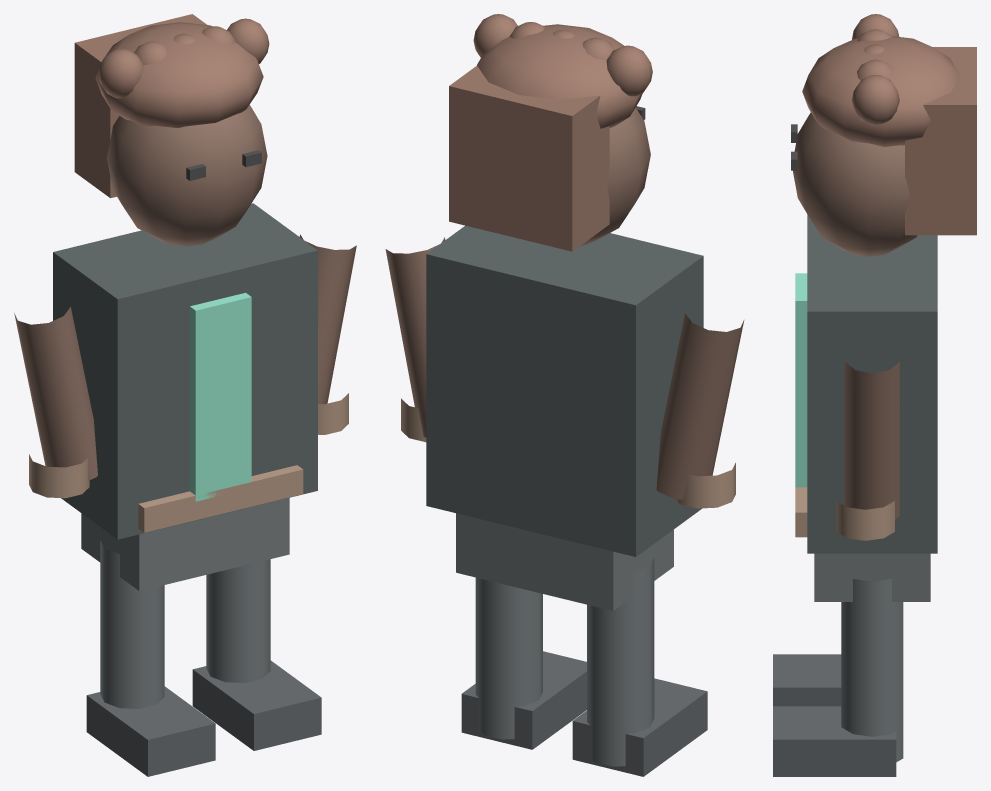
Rendered from darel-ossan.glb.
3 renders of one model, left to right at view 1: azimuth 30°, elevation 25°; view 2: azimuth 150°, elevation 25°; view 3: azimuth 270°, elevation 25°, orthographic. The views are drawn at different scales.
Parts seen in each view (by area): view 1: Torso, Head, Vest, HairCap, Pelvis, ArmL, LegL, FootL, FootR, LegR, HairBack, Belt (+5 smaller); view 2: Torso, HairBack, Pelvis, LegL, ArmL, LegR, HairCap, FootL, FootR, ArmR, Head, Curl0 (+3 smaller); view 3: Torso, Head, HairBack, HairCap, LegR, ArmR, FootR, Pelvis, FootL, Vest, CuffR, Curl4 (+3 smaller).
Boxes of the visible parts, x1,y1,x2,y2 form: Torso: [53, 203, 317, 539]; Head: [107, 105, 267, 246]; Vest: [189, 292, 251, 501]; HairCap: [95, 22, 263, 127]; Pelvis: [81, 498, 289, 590]; ArmL: [14, 307, 97, 480]; LegL: [100, 540, 164, 708]; FootL: [86, 686, 215, 776]; FootR: [192, 660, 321, 750]; LegR: [206, 559, 270, 682]; HairBack: [74, 14, 206, 198]; Belt: [138, 465, 303, 532]; Torso: [426, 225, 703, 556]; HairBack: [449, 66, 609, 251]; Pelvis: [456, 513, 673, 610]; LegL: [587, 558, 654, 766]; ArmL: [656, 313, 744, 499]; LegR: [475, 577, 542, 739]; HairCap: [477, 24, 642, 128]; FootL: [572, 678, 707, 776]; FootR: [461, 651, 586, 749]; ArmR: [385, 237, 445, 437]; Head: [580, 107, 650, 245]; Curl0: [606, 45, 652, 96]; Torso: [807, 214, 937, 553]; Head: [793, 112, 917, 256]; HairBack: [905, 47, 976, 235]; HairCap: [802, 36, 960, 146]; LegR: [841, 579, 903, 762]; ArmR: [844, 362, 899, 519]; FootR: [773, 706, 896, 776]; Pelvis: [814, 553, 930, 601]; FootL: [773, 654, 841, 706]; Vest: [795, 273, 807, 487]; CuffR: [836, 501, 894, 540]; Curl4: [852, 75, 899, 125].
Bounding box in the file's own units: 1.14 × 2.21 × 0.595.
